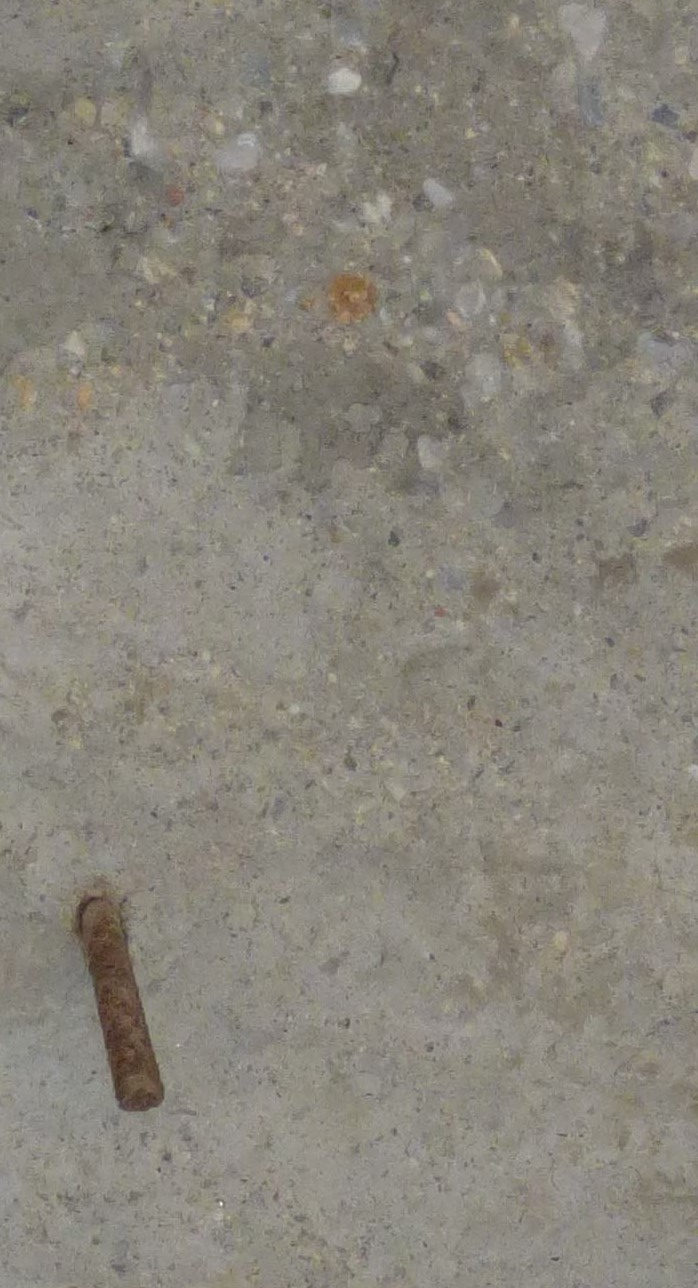Exposed reinforcement: (80, 897, 166, 1112)
